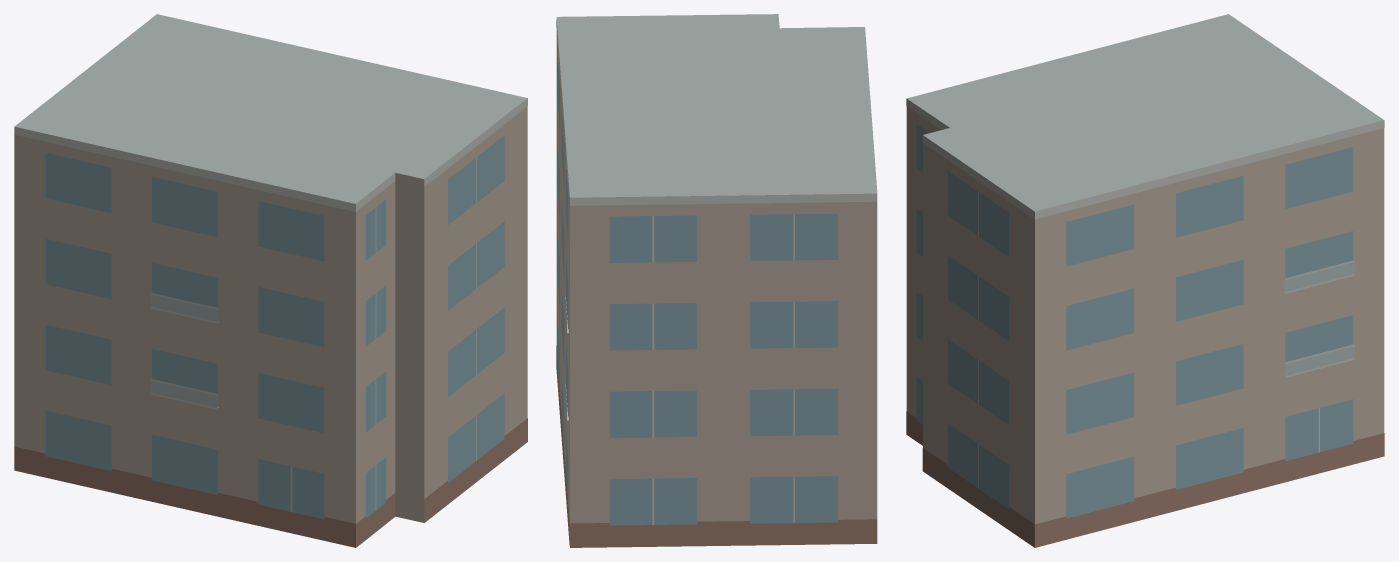
Rendered from survey-upis-33024538.glb.
3 renders of one model, left to right at view 1: azimuth 30°, elevation 25°; view 2: azimuth 150°, elevation 25°; view 3: azimuth 270°, elevation 25°, orthographic. The views are drawn at different scales.
Visible parts, largest first — view 1: survey-upis-33024538.tmp; view 2: survey-upis-33024538.tmp; view 3: survey-upis-33024538.tmp.
Boxes of the visible parts, <box> form: survey-upis-33024538.tmp: <box>14,14,527,547</box>; survey-upis-33024538.tmp: <box>556,14,877,547</box>; survey-upis-33024538.tmp: <box>906,14,1384,547</box>.
Bounding box in the file's own units: 13.25 × 10.5 × 13.54.
